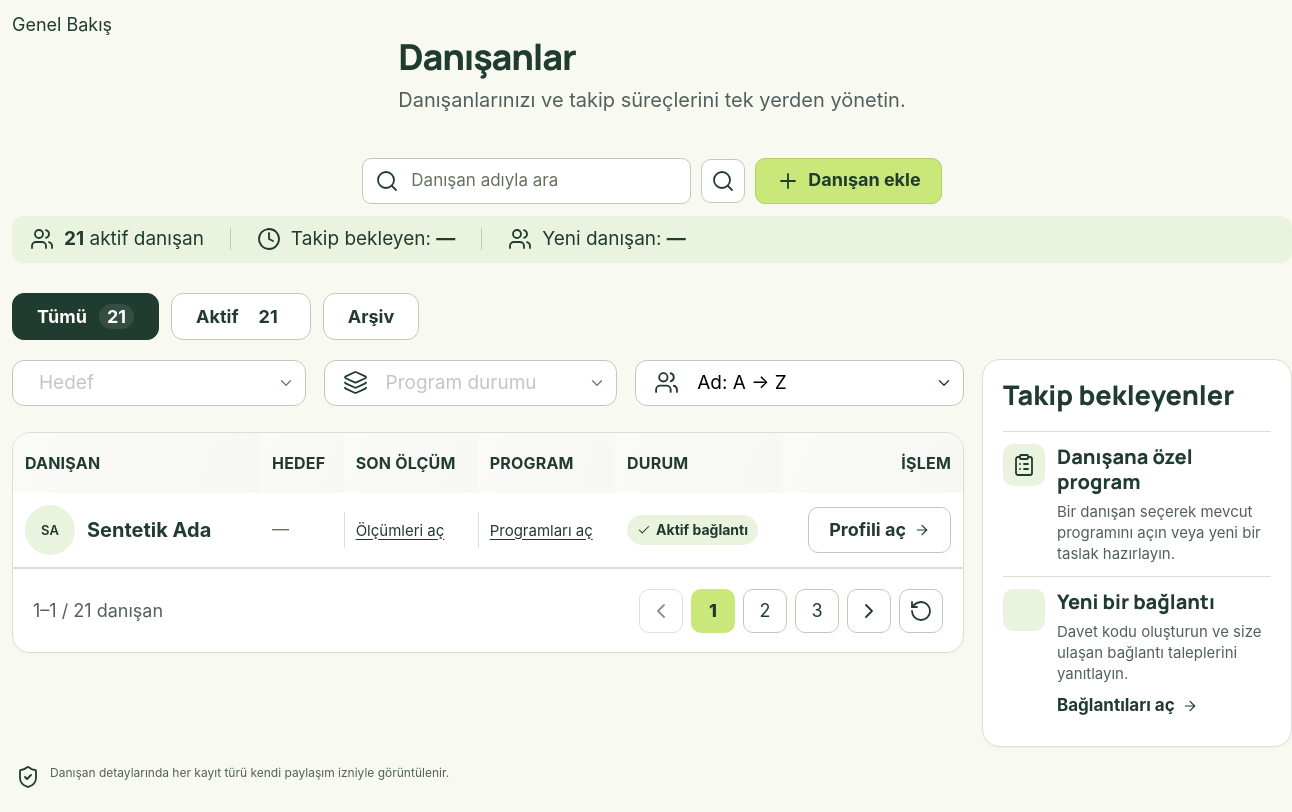
Test: client list return position › opens a numbered page with the current search and reports the returned range
The image size is (1292, 812).
Expected: the text "Sentetik Ada" is shown, [87,518,211,542]
Type "Ada" into the search field at (544, 181), box [409,159,678,203]
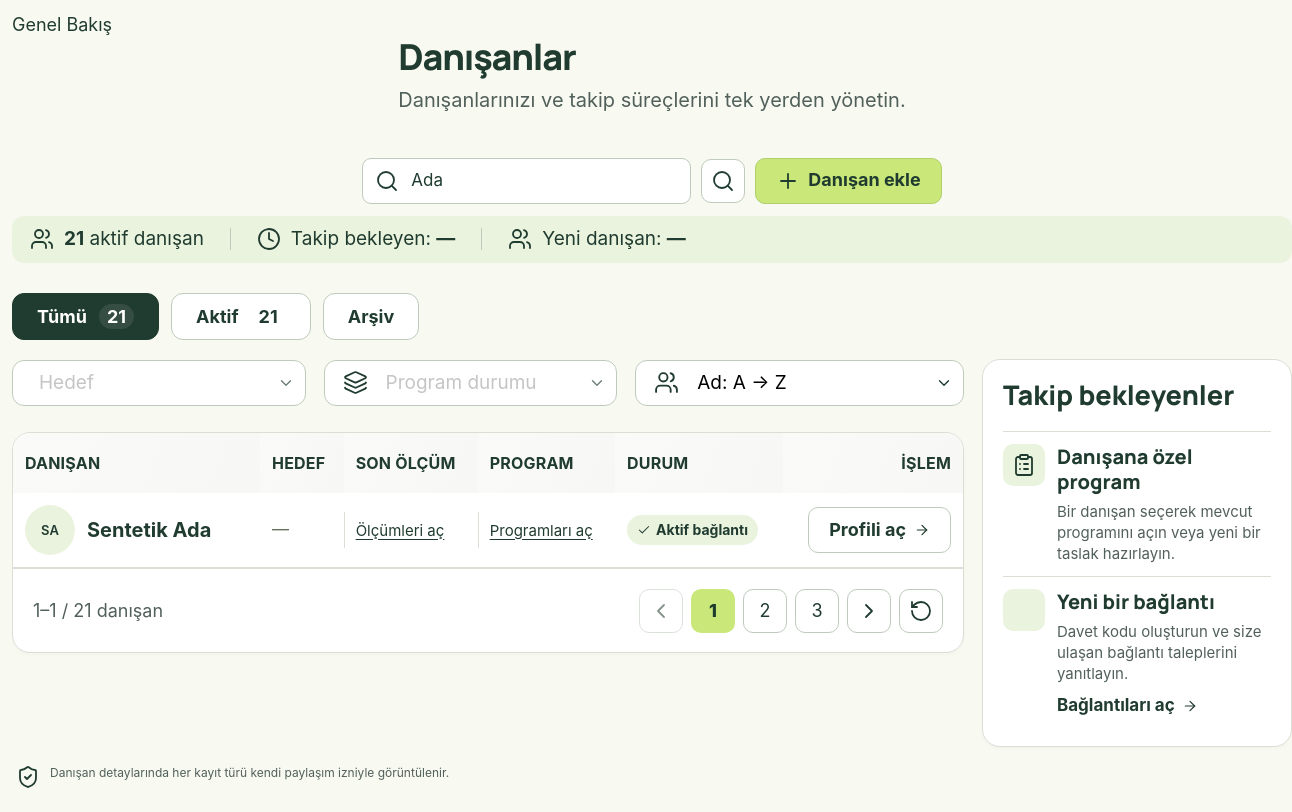
Click the button named "Ara" at (723, 181), box [701,159,745,203]
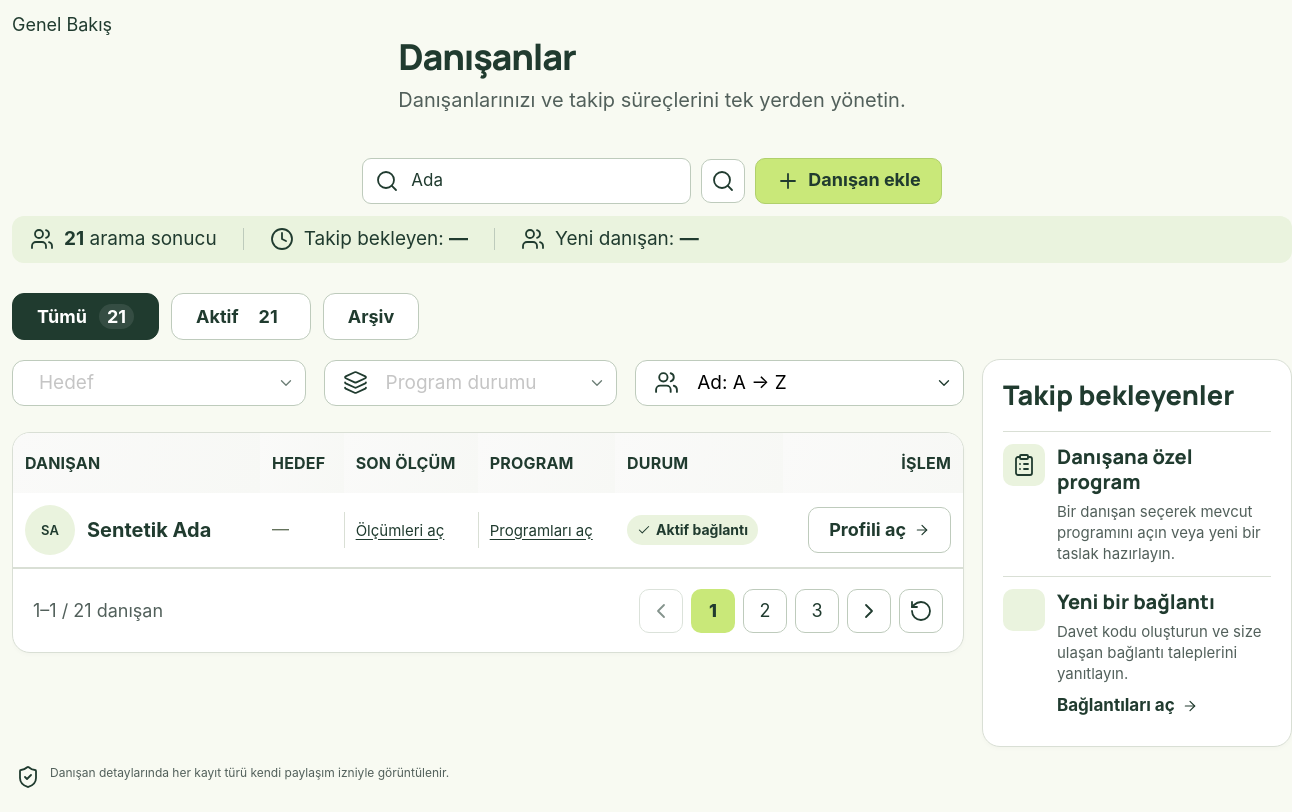
Expected: the text "Sentetik Ada" is shown, [87,518,211,542]
Click the button named "3. sayfayı aç" at (817, 611), box [795,589,839,633]
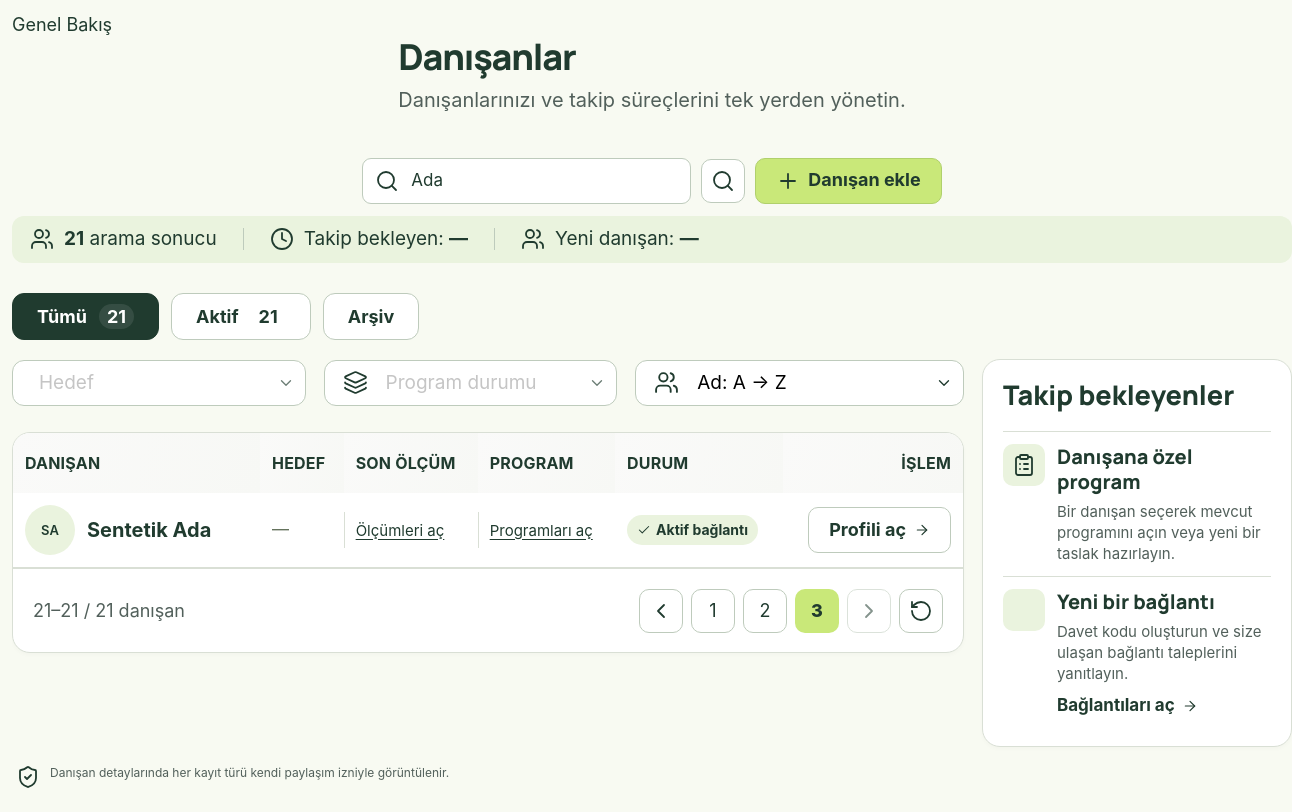
Expected: the text "21–21 / 21 danışan" is shown, [33,598,185,623]
Expected: the button named "Sonraki sayfa" is disabled, [847,589,891,633]
